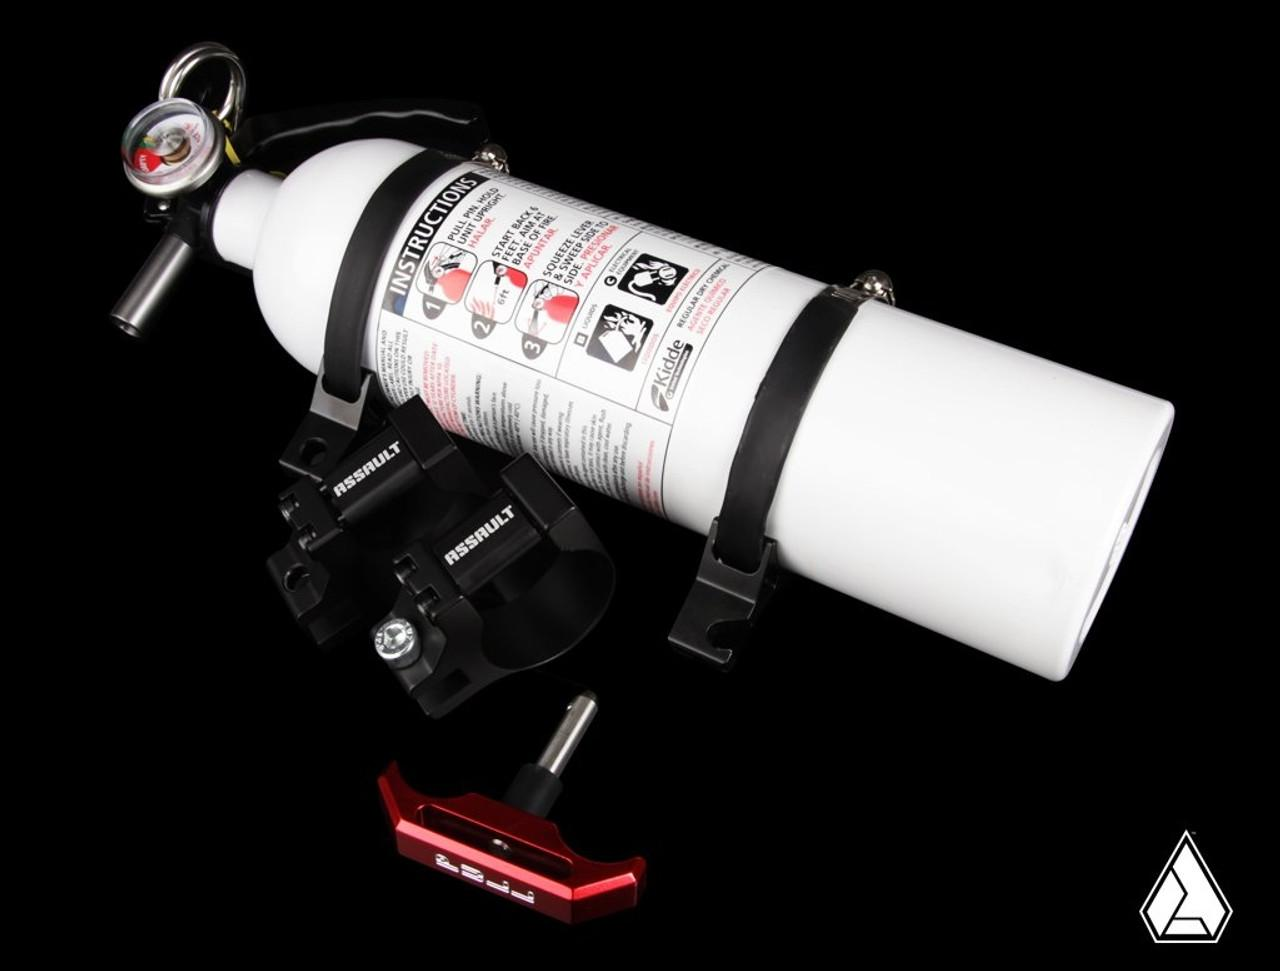Fire Extinguisher: (98, 30, 1185, 708)
